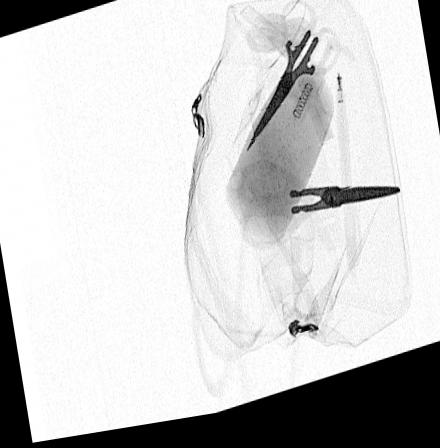Scissors: (235, 163, 406, 264), (243, 3, 342, 171)
